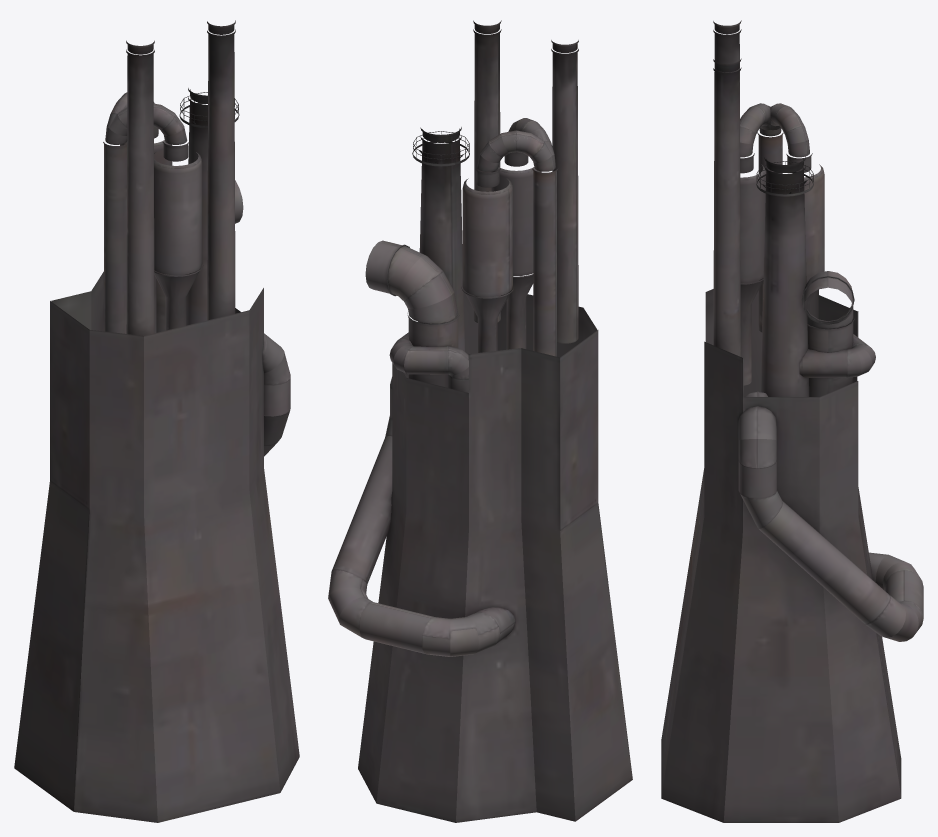
3 renders of one model, left to right at view 1: azimuth 30°, elevation 25°; view 2: azimuth 150°, elevation 25°; view 3: azimuth 270°, elevation 25°, orthographic. The views are drawn at different scales.
Parts seen in each view (by area): view 1: body0_model0_lod0_mesh0; view 2: body0_model0_lod0_mesh0; view 3: body0_model0_lod0_mesh0.
Boxes of the visible parts, box(x1,y1,x2,y2) form: body0_model0_lod0_mesh0: box(14, 20, 299, 822); body0_model0_lod0_mesh0: box(328, 20, 632, 822); body0_model0_lod0_mesh0: box(661, 20, 923, 822).
Bounding box in the file's own units: 53.92 × 167 × 54.64.
Materials: 1 (1 with a texture image).
